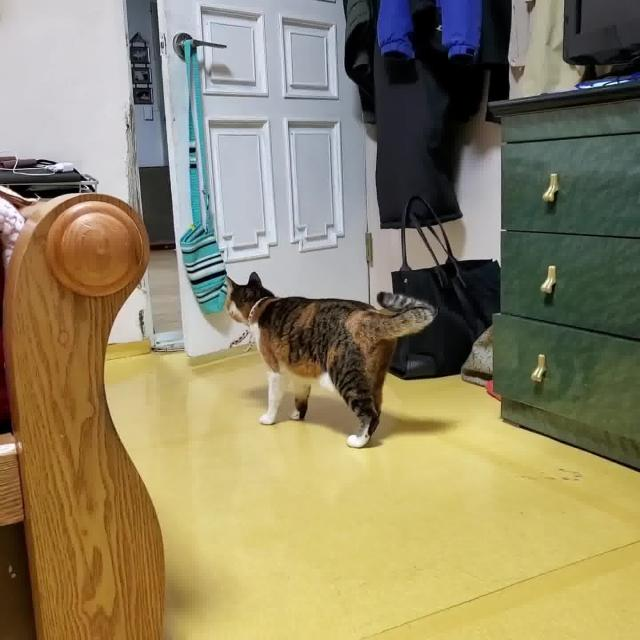cat: (224, 268, 439, 453)
